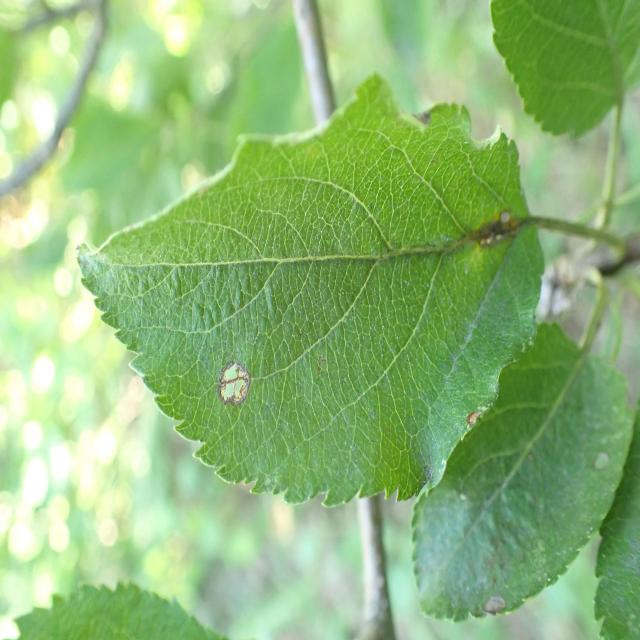frog-eye-leaf-spot: (74, 77, 544, 510), (410, 321, 638, 626)
